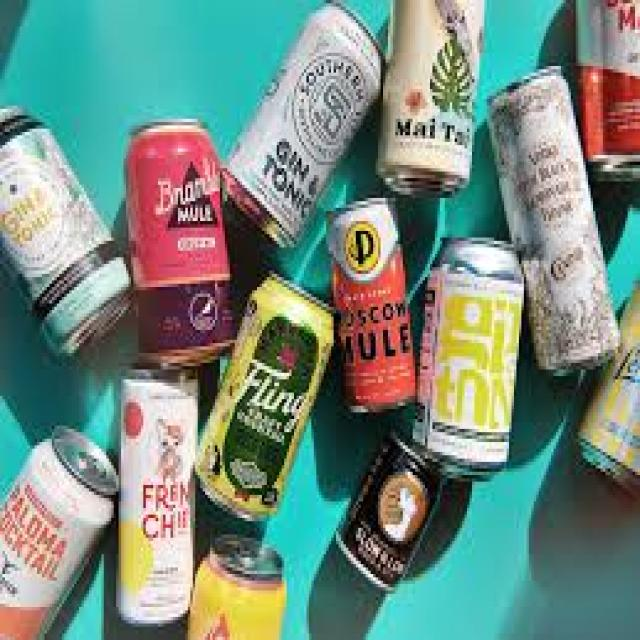Cans: (484, 63, 628, 389), (220, 3, 390, 251), (195, 270, 334, 528), (410, 228, 534, 482), (118, 116, 234, 366), (109, 363, 198, 623), (324, 198, 420, 419), (339, 432, 457, 594)
